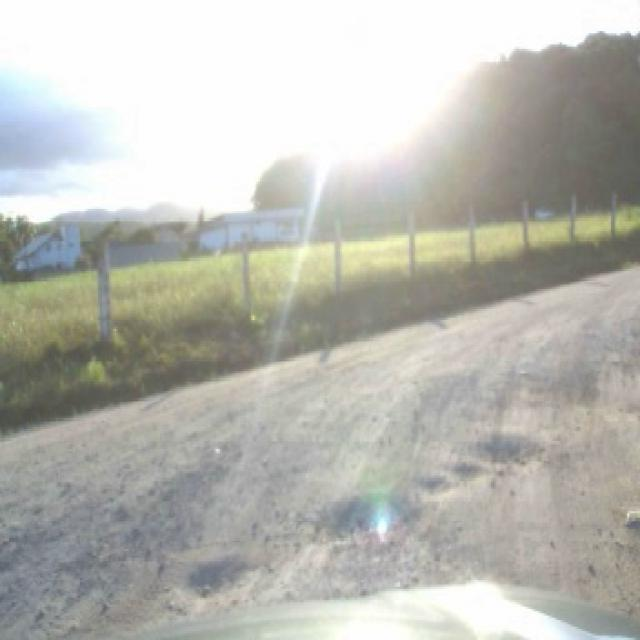Poth-hole: (328, 491, 416, 536), (188, 553, 256, 598), (484, 427, 542, 462), (426, 474, 456, 494), (456, 460, 486, 476), (627, 506, 640, 526)
